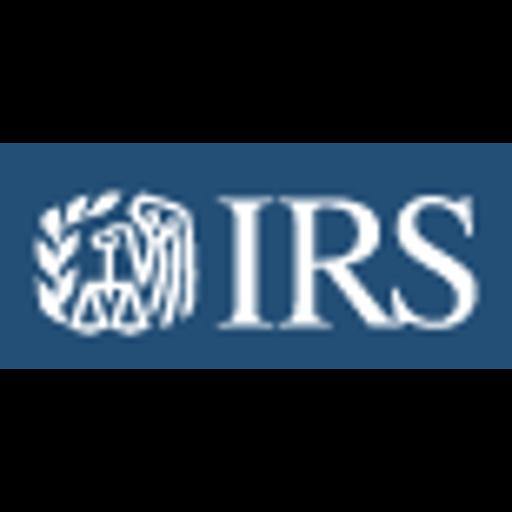IRS: (0, 143, 512, 369)
